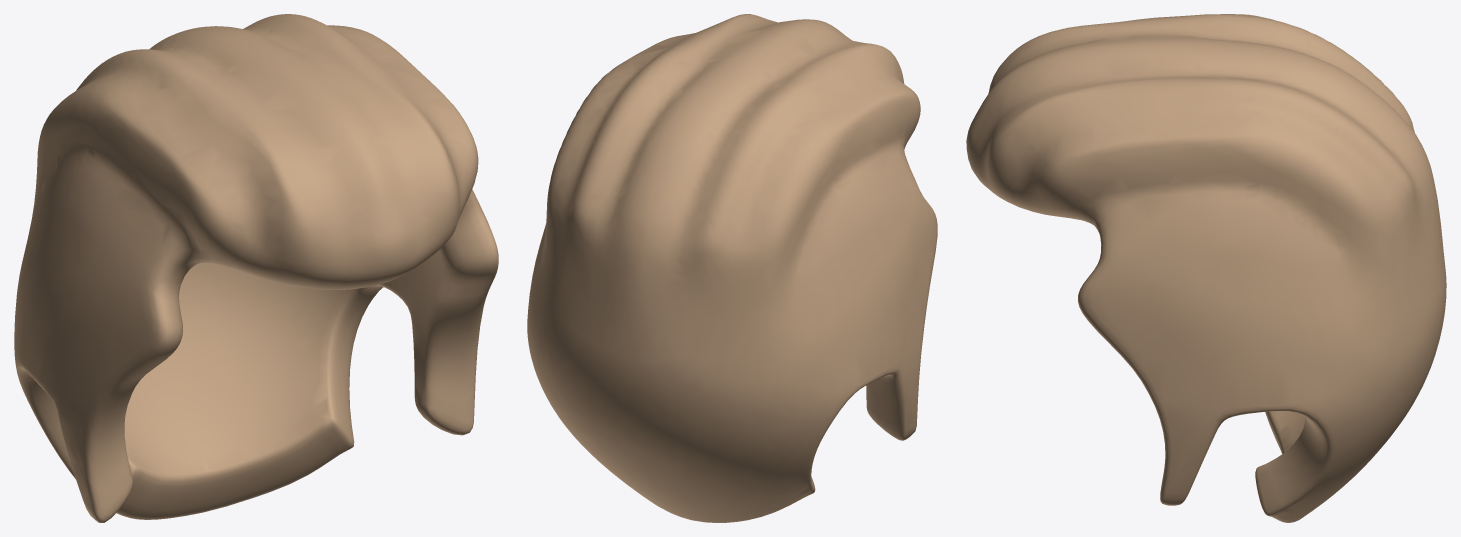
File: hair-5-f373f75b.glb
The picture shows the model from 3 angles, left to right: view 1: azimuth 30°, elevation 25°; view 2: azimuth 150°, elevation 25°; view 3: azimuth 270°, elevation 25°; orthographic projection. The views are drawn at different scales.
Parts seen in each view (by area): view 1: Geo_White_Old_Male_Hair_5.001; view 2: Geo_White_Old_Male_Hair_5.001; view 3: Geo_White_Old_Male_Hair_5.001.
Boxes of the visible parts, left/top/right/bottom form: Geo_White_Old_Male_Hair_5.001: left=14, top=14, right=498, bottom=522; Geo_White_Old_Male_Hair_5.001: left=527, top=14, right=937, bottom=522; Geo_White_Old_Male_Hair_5.001: left=966, top=14, right=1446, bottom=522.
Size of the model in its own units: 1.38 by 1.66 by 1.57.
